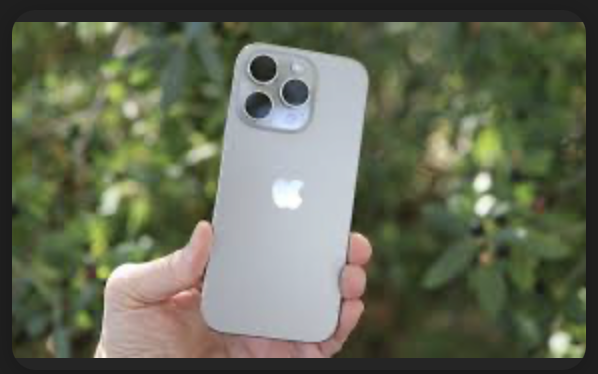phone: (194, 44, 382, 335)
